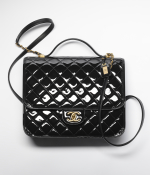channel: (17, 47, 139, 149), (25, 63, 94, 95), (61, 106, 85, 127)
